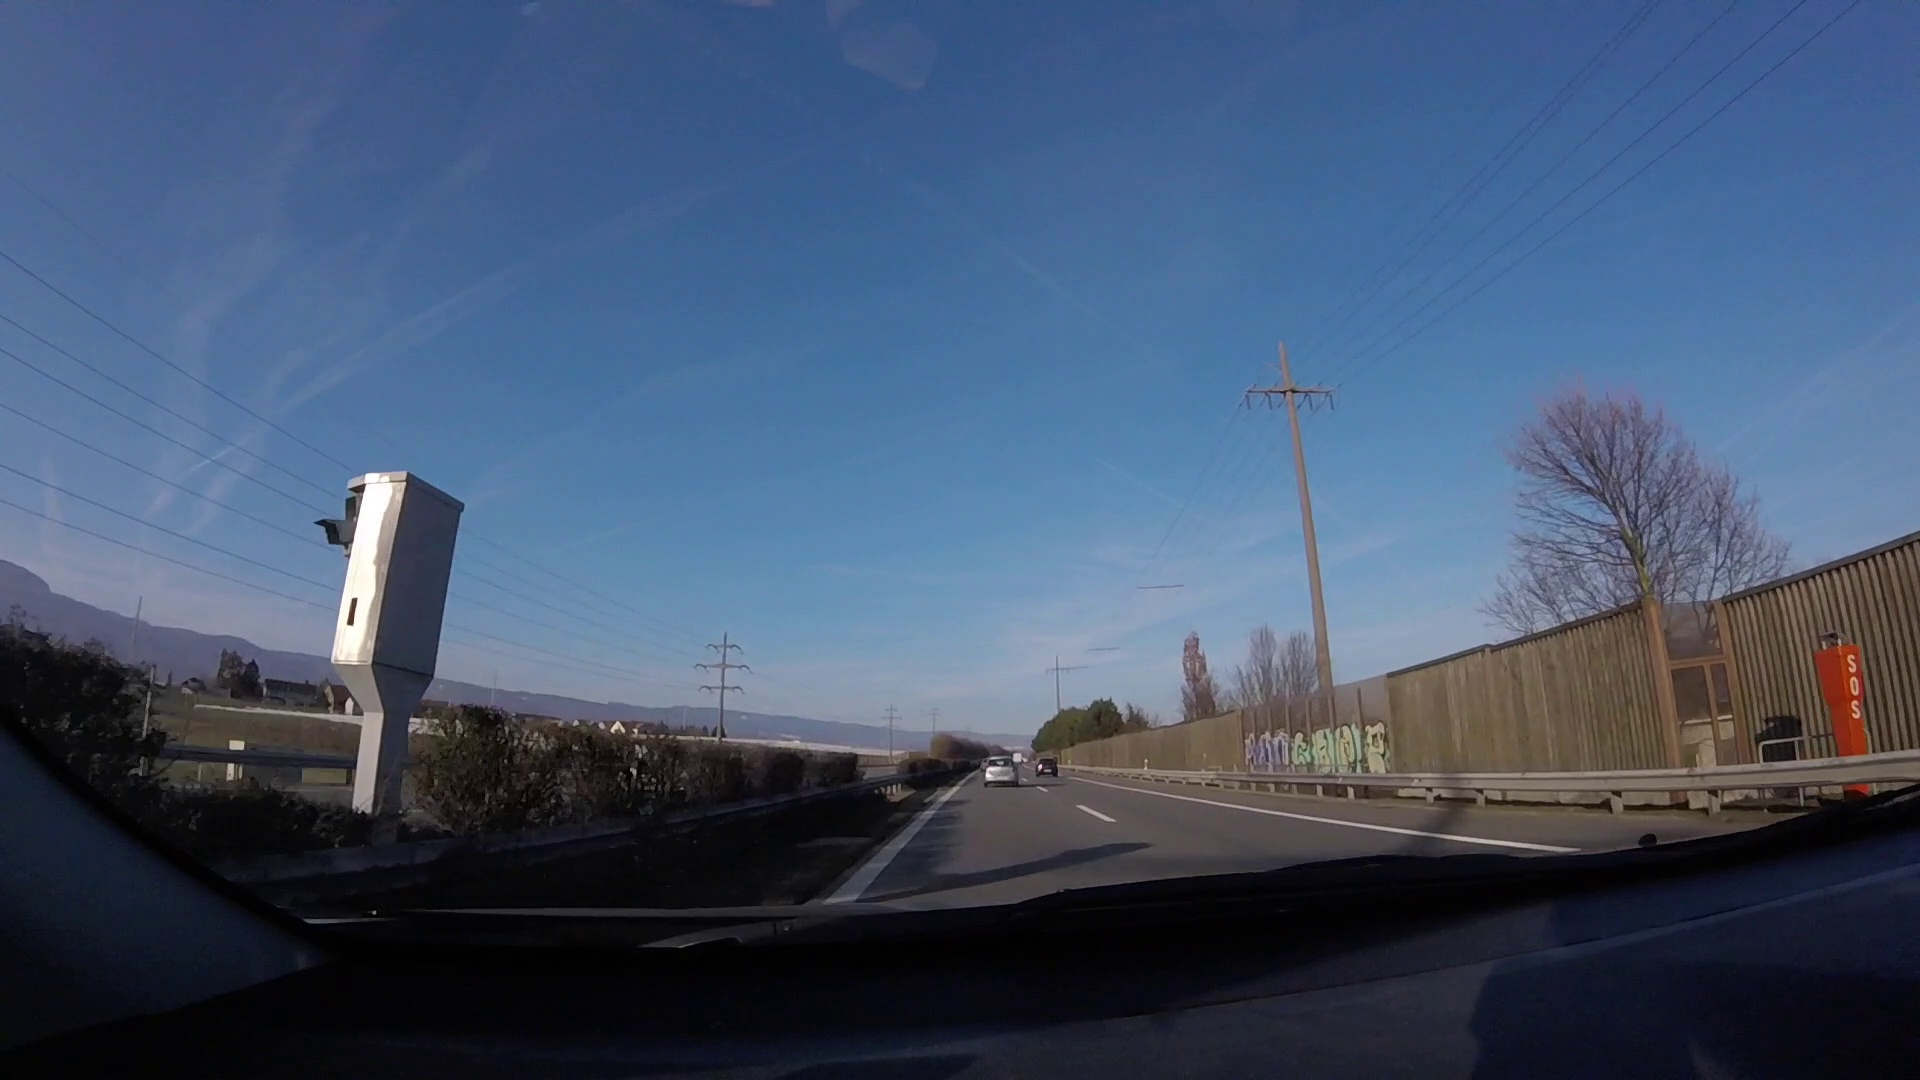radar: (310, 469, 469, 831)
